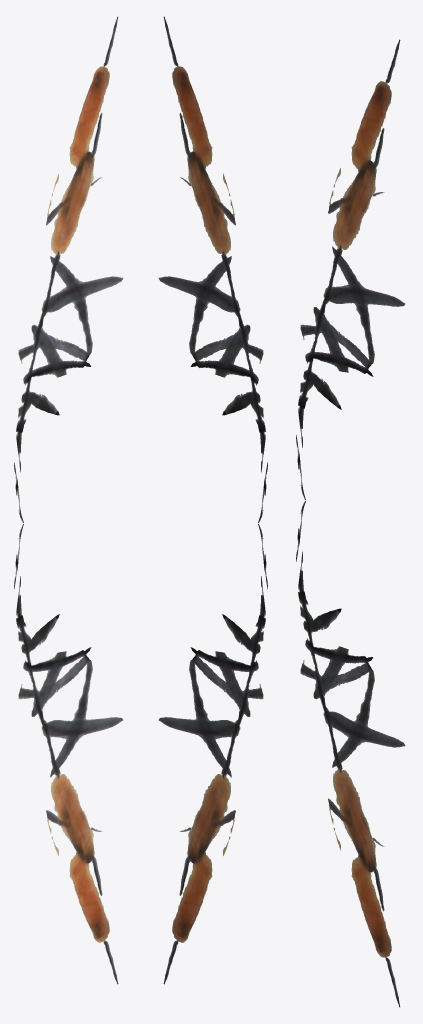
The model's file is PPX_REED17.fbx.
3 views of the same model, side by side, from view 1: azimuth 30°, elevation 25°; view 2: azimuth 150°, elevation 25°; view 3: azimuth 330°, elevation 25° (orthographic).
Visible parts, largest first — view 1: 图层 8.png, 图层 8.png_2; view 2: 图层 8.png, 图层 8.png_2; view 3: 图层 8.png_2, 图层 8.png.
Boxes of the visible parts, x1,y1,x2,y2 form: 图层 8.png: [14, 16, 123, 522]; 图层 8.png_2: [14, 524, 123, 984]; 图层 8.png: [158, 16, 267, 522]; 图层 8.png_2: [158, 524, 267, 984]; 图层 8.png_2: [296, 501, 405, 1007]; 图层 8.png: [296, 39, 405, 499].
Size of the model in its own units: 45.8 by 0 by 375.
1 material, 1 textured.
